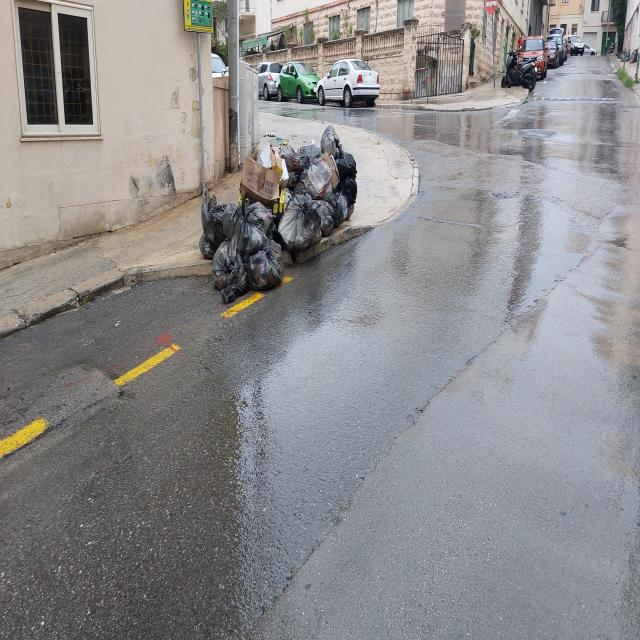Mixed Waste -Black Bag-: (231, 192, 270, 260), (280, 194, 323, 253), (200, 188, 232, 262), (296, 155, 337, 207), (248, 234, 284, 293), (213, 241, 244, 292), (222, 251, 248, 304), (280, 145, 305, 191), (312, 201, 339, 238), (336, 152, 358, 182), (329, 194, 349, 227), (336, 178, 359, 206), (322, 126, 340, 161)
Other: (242, 143, 282, 202), (240, 187, 288, 220), (323, 156, 341, 190), (279, 159, 290, 189), (301, 145, 323, 159)
